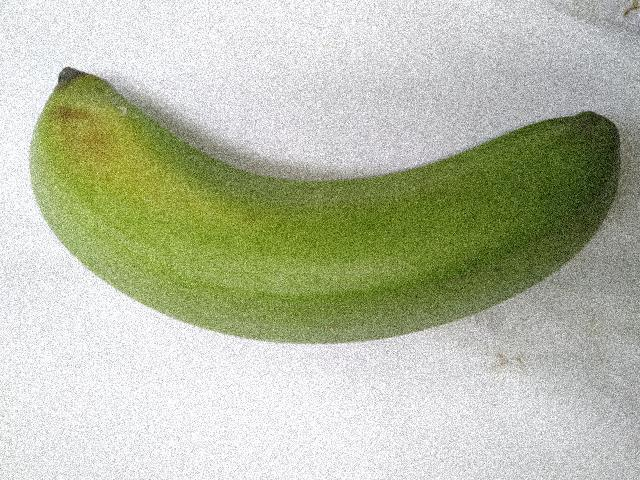freshunripe: (20, 56, 639, 363)
